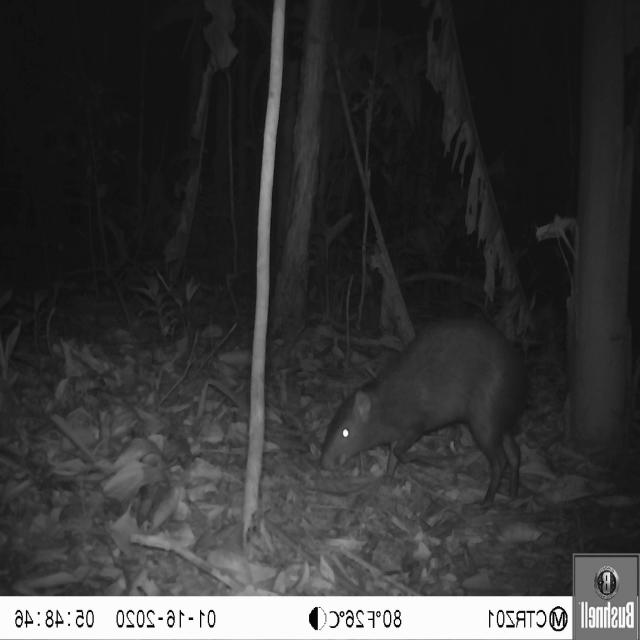Black Agouti: (300, 302, 548, 510)
